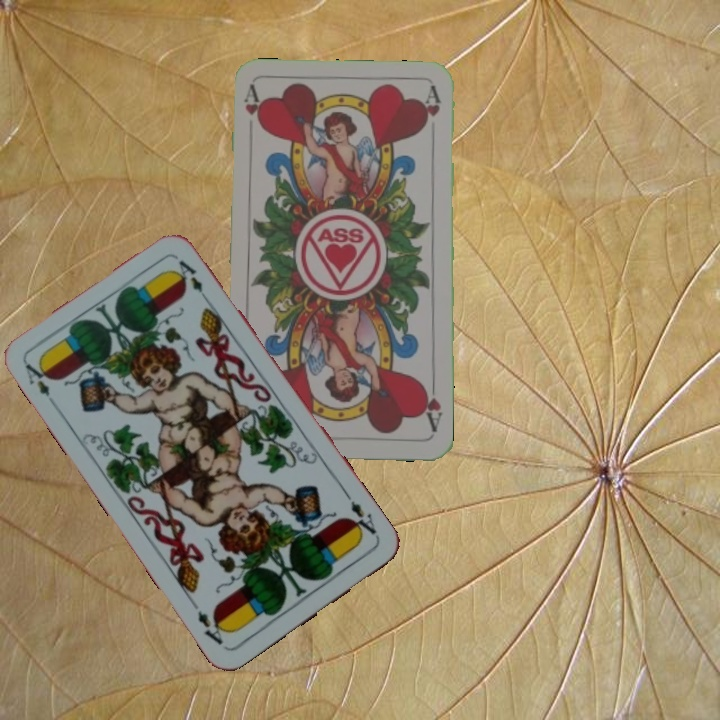EA: (341, 490, 380, 540), (21, 356, 55, 399)
HA: (418, 376, 445, 435), (240, 83, 264, 131)
